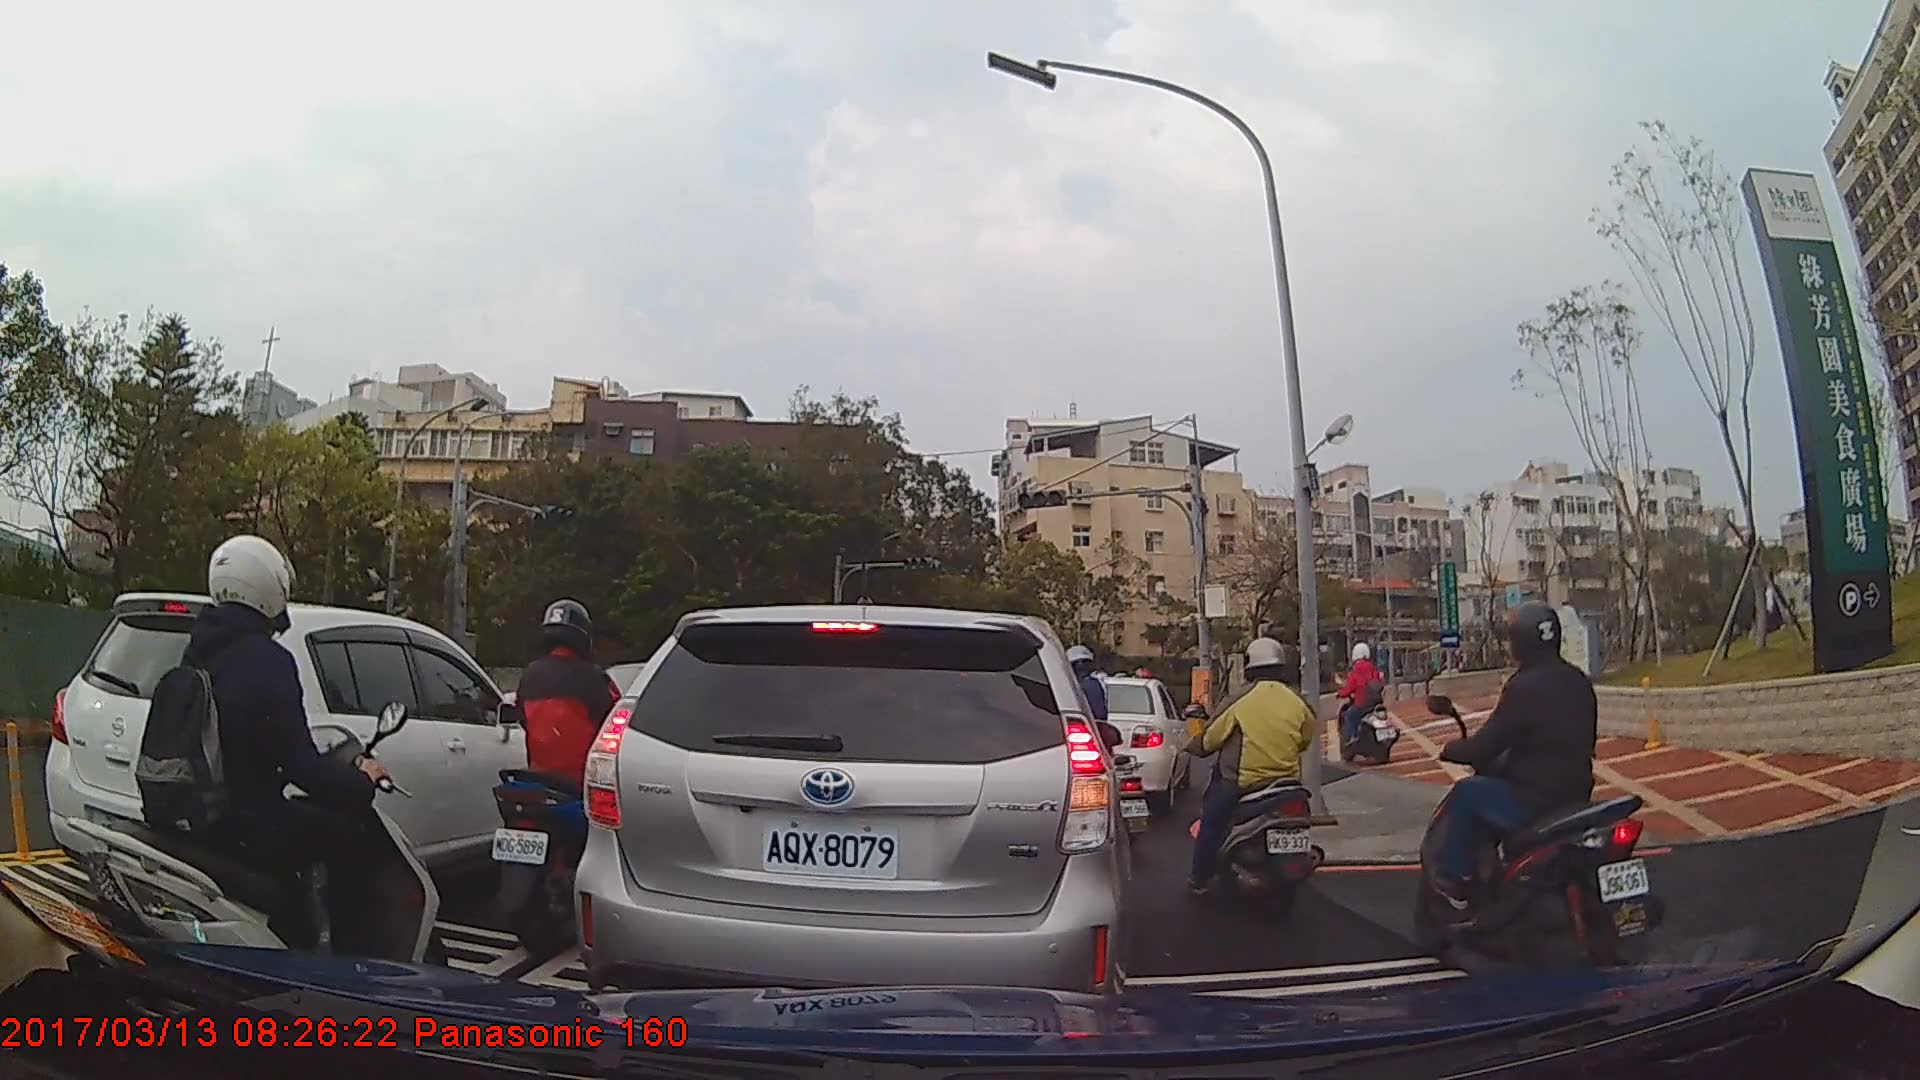pedestrian: (1751, 561, 1793, 637), (1746, 576, 1780, 639)
rider: (67, 533, 446, 1030), (1409, 599, 1658, 989), (485, 596, 646, 958), (1184, 636, 1323, 908), (1325, 639, 1398, 762)
vehicle: (572, 602, 1132, 1022), (42, 591, 576, 923), (1065, 674, 1194, 814)
